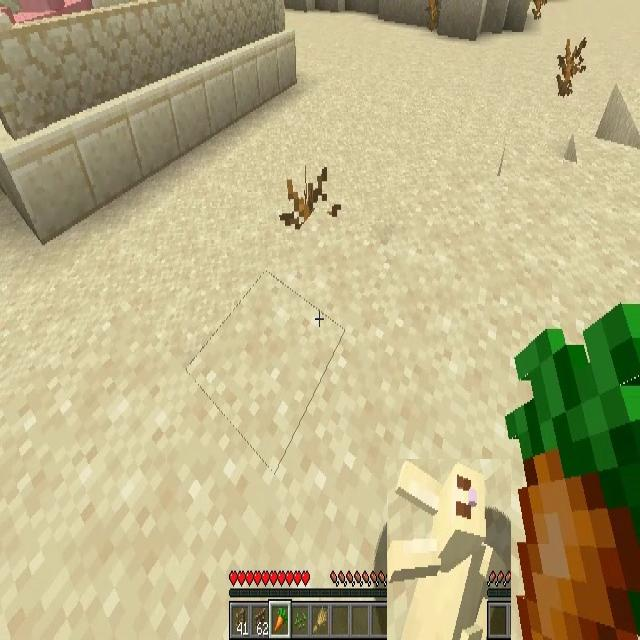rabbit: (387, 459, 511, 640)
